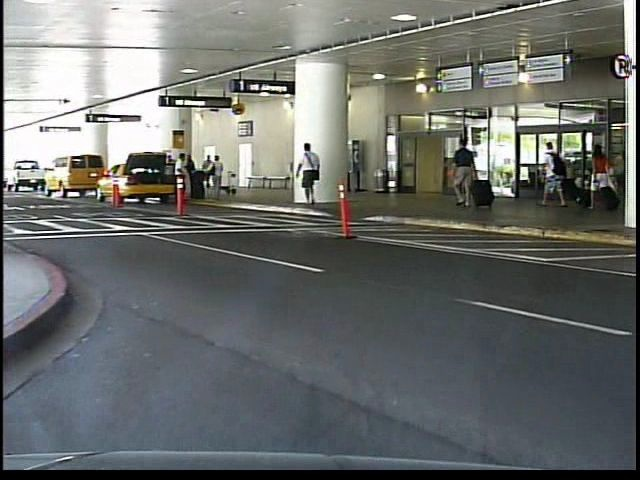person: (537, 138, 574, 217), (588, 133, 619, 220), (450, 134, 480, 210), (297, 141, 329, 211)
